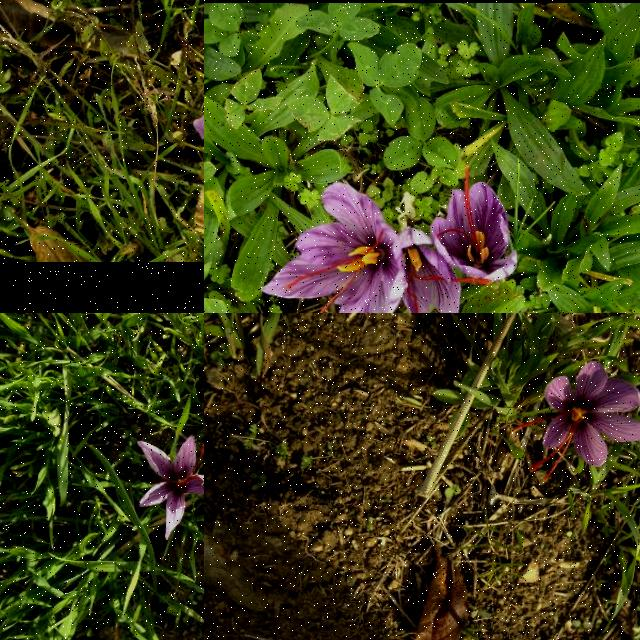flower: (261, 182, 407, 313), (513, 361, 640, 480), (429, 168, 518, 280), (136, 437, 204, 541), (399, 227, 461, 313)
